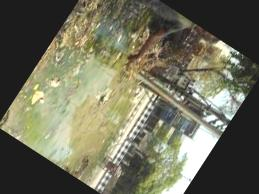Stagnant water: (8, 0, 202, 194)
